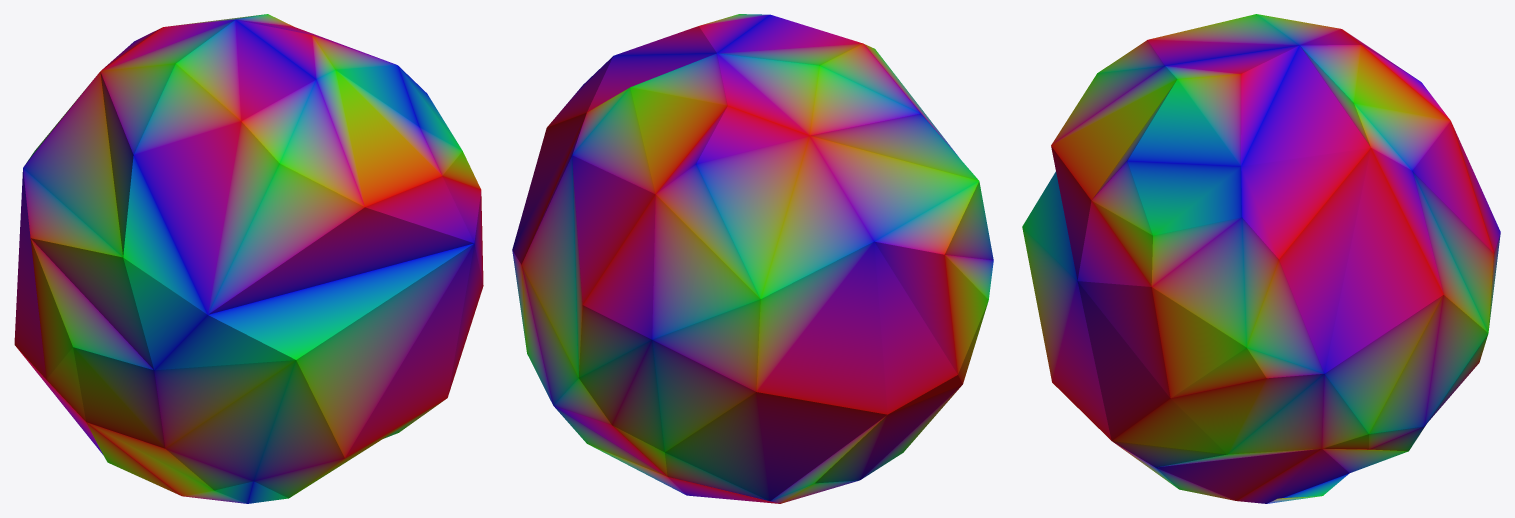
File: after_decimating_reconquest_2.obj
The picture shows the model from 3 angles, left to right: view 1: azimuth 30°, elevation 25°; view 2: azimuth 150°, elevation 25°; view 3: azimuth 270°, elevation 25°; orthographic projection.
Bounding box in the file's own units: 1.96 × 1.96 × 1.94.
